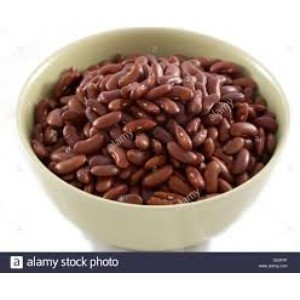beans_brain food: (95, 88, 226, 176)
